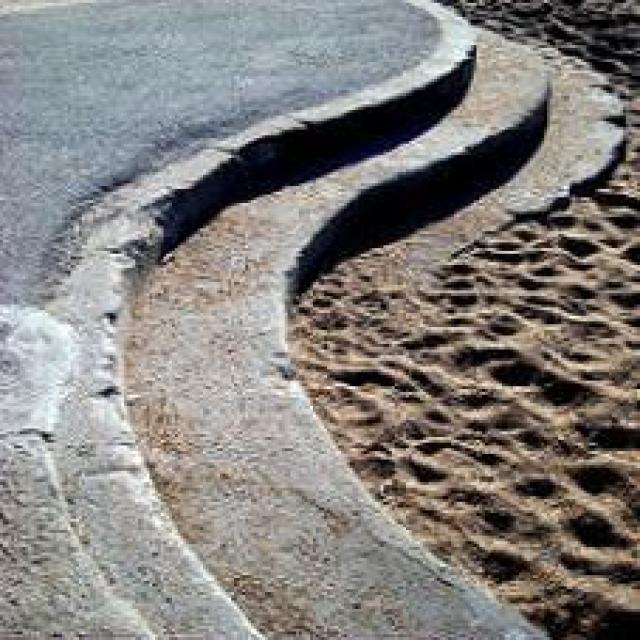upstair: (15, 224, 421, 568)
